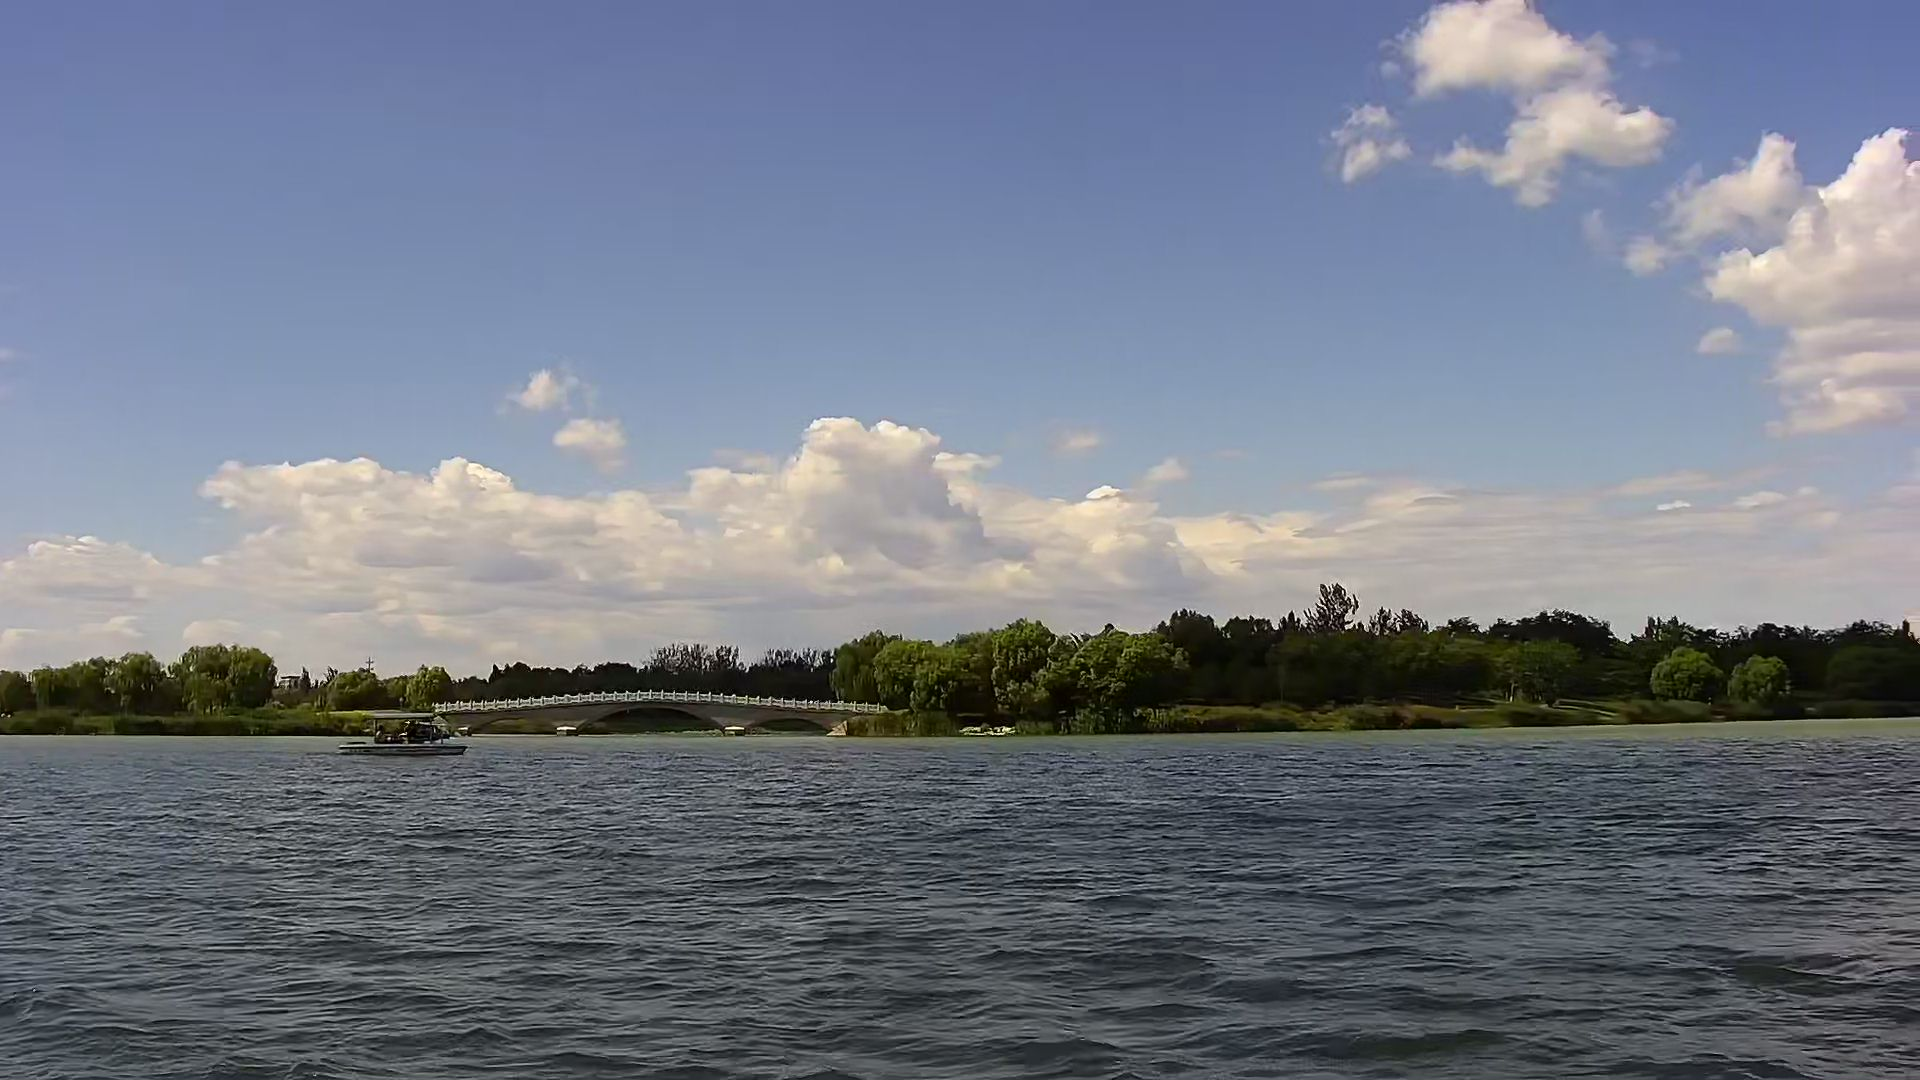boat: (330, 702, 469, 765)
bridge: (452, 690, 899, 738)
